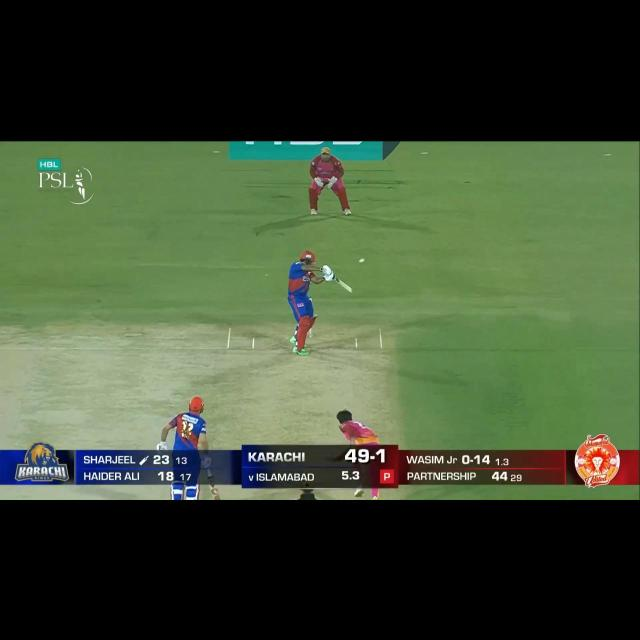bat: (334, 277, 354, 294), (209, 484, 222, 499)
toe: (348, 287, 352, 293)
